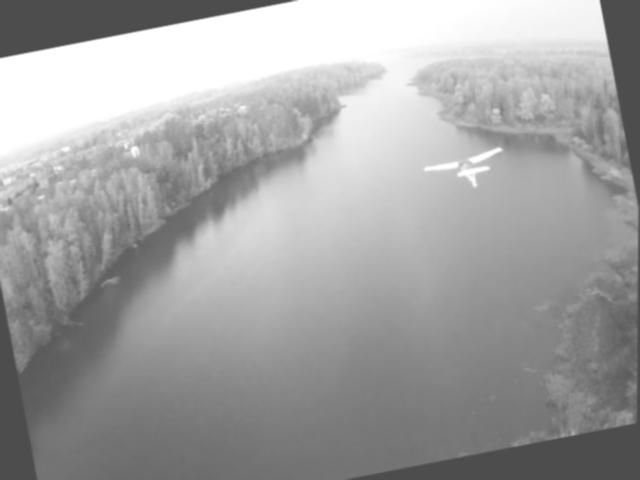hedef: (421, 138, 519, 202)
